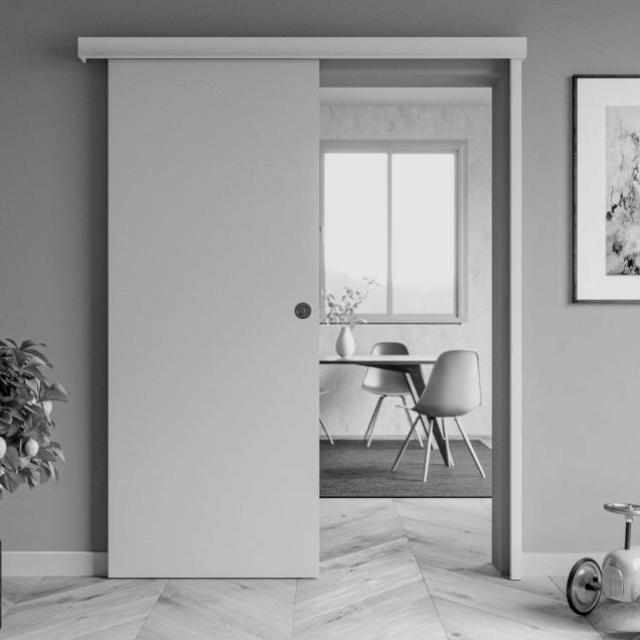door: (104, 58, 320, 580)
